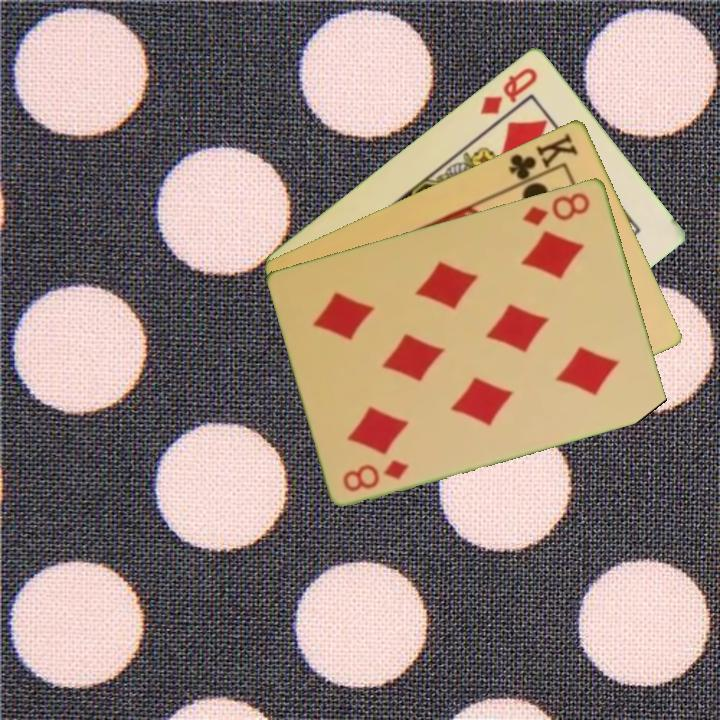8d: (520, 188, 593, 228), (339, 455, 412, 494)
Kc: (505, 129, 581, 189)
Qd: (476, 63, 541, 117)
